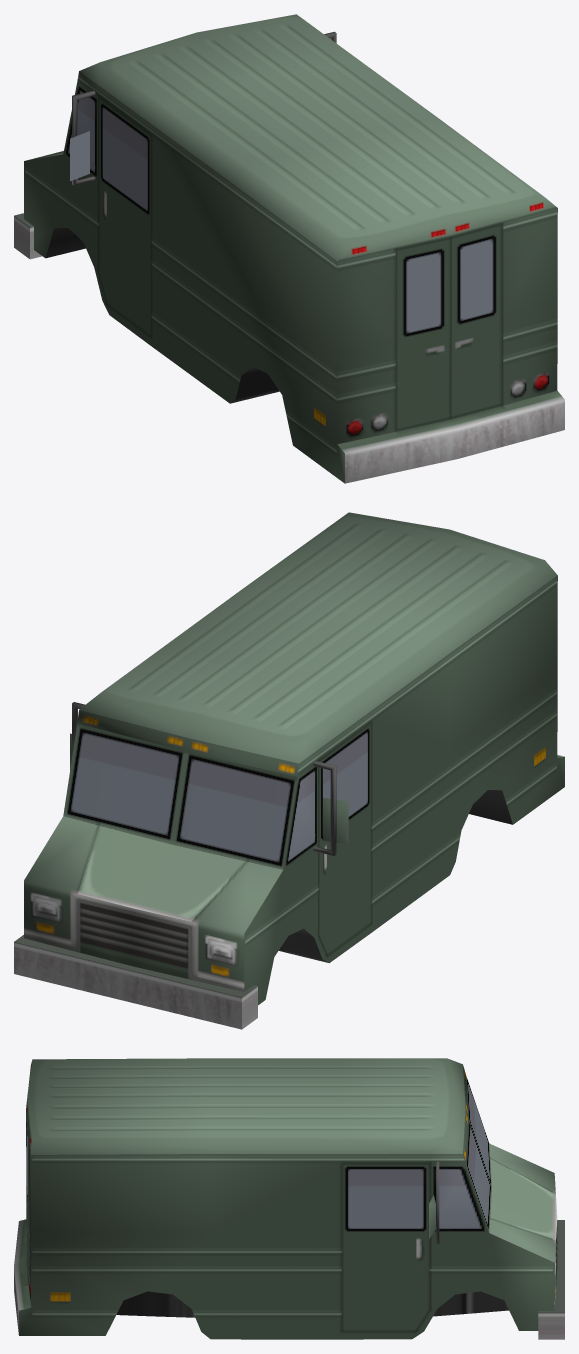
Rendered from Vehicle_StepVan.FBX.
3 renders of one model, top to bottom at view 1: azimuth 30°, elevation 25°; view 2: azimuth 150°, elevation 25°; view 3: azimuth 270°, elevation 25°, orthographic. The views are drawn at different scales.
Visible parts, largest first — view 1: Vehicle_StepVan; view 2: Vehicle_StepVan; view 3: Vehicle_StepVan.
Boxes of the visible parts, bbox=[...] form: Vehicle_StepVan: bbox=[14, 14, 564, 483]; Vehicle_StepVan: bbox=[14, 512, 564, 1029]; Vehicle_StepVan: bbox=[14, 1058, 564, 1339].
Size of the model in its own units: 113 by 92.83 by 231.
1 material, 1 textured.
